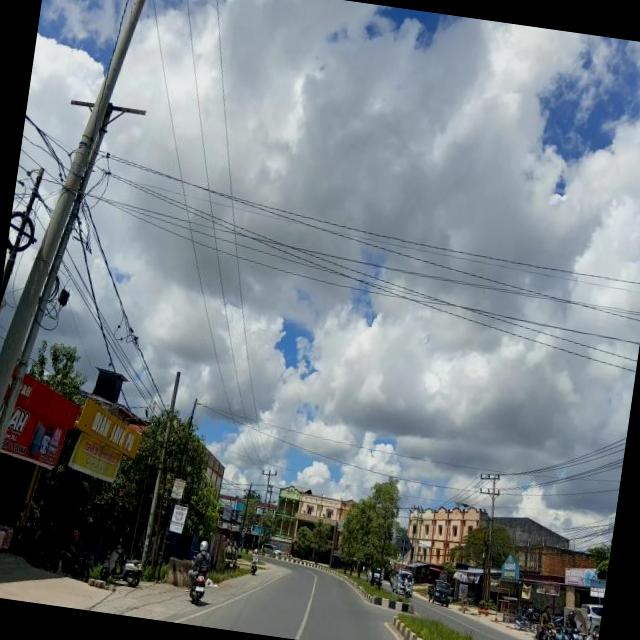cumulus: (111, 0, 640, 412), (245, 381, 480, 489)
